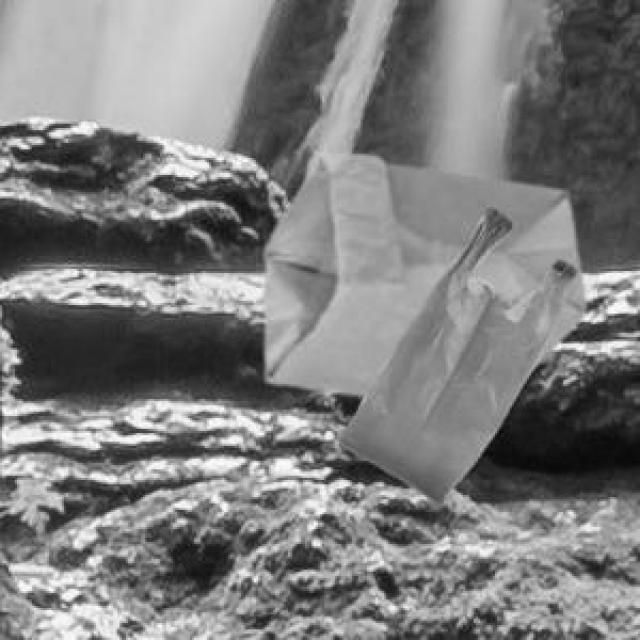paper: (260, 152, 580, 390)
